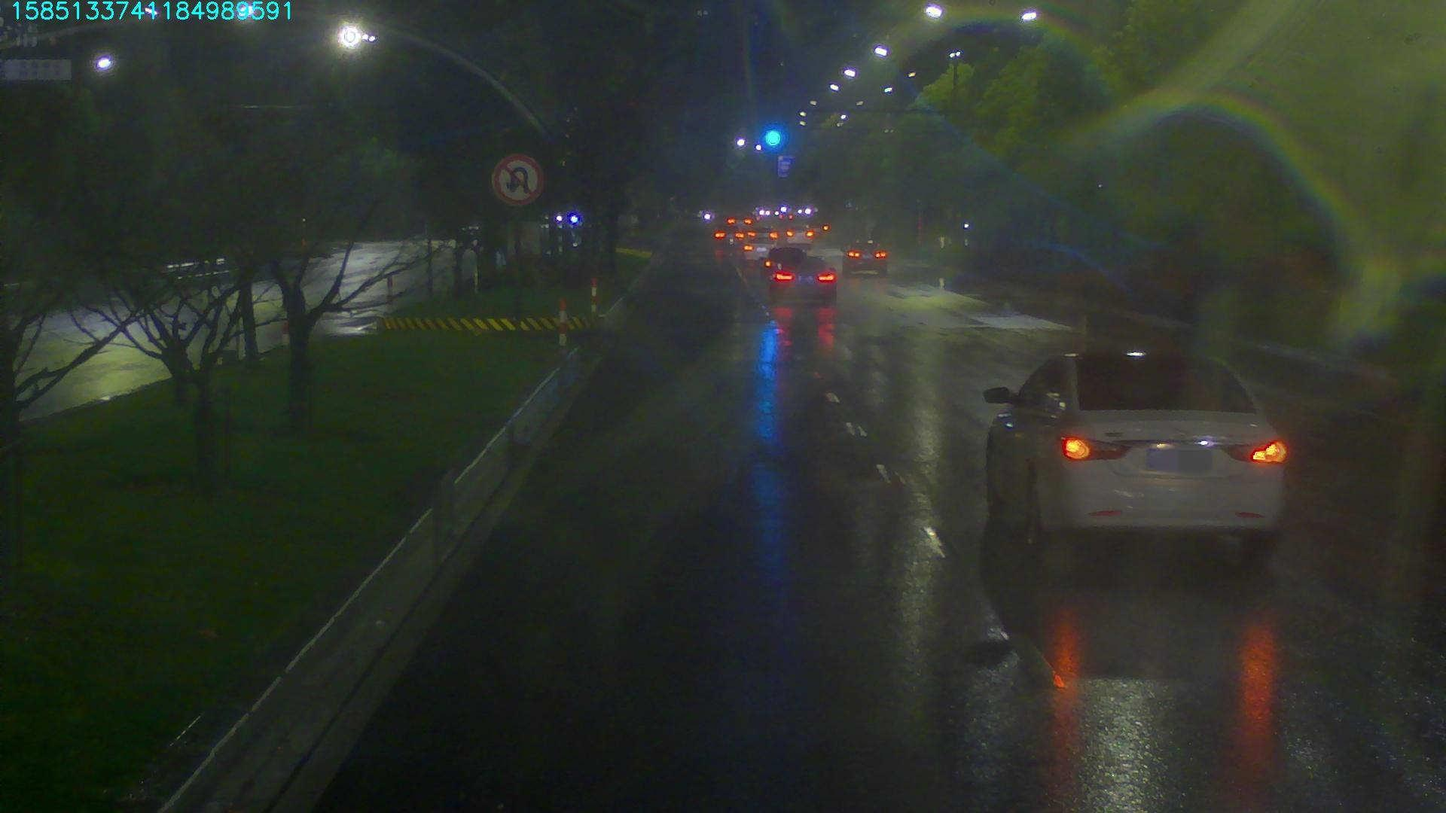green: (762, 124, 782, 155)
